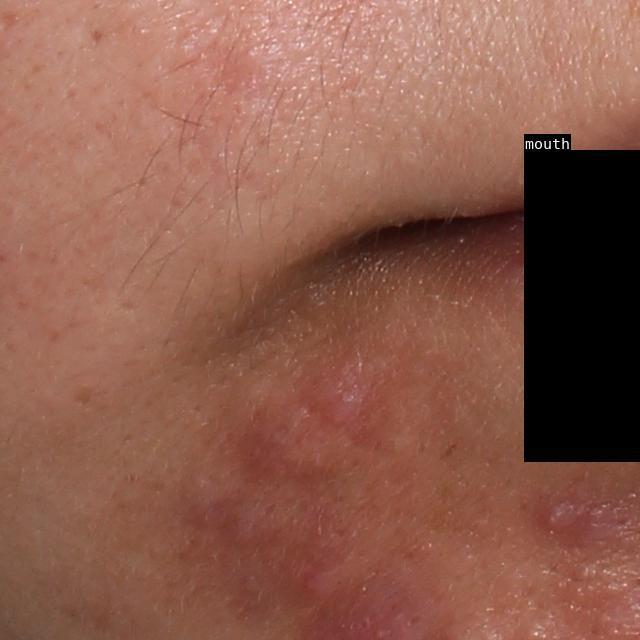papule: (237, 407, 334, 487), (311, 366, 374, 429), (223, 493, 274, 555), (538, 489, 589, 542), (179, 473, 227, 528), (289, 561, 341, 609)
